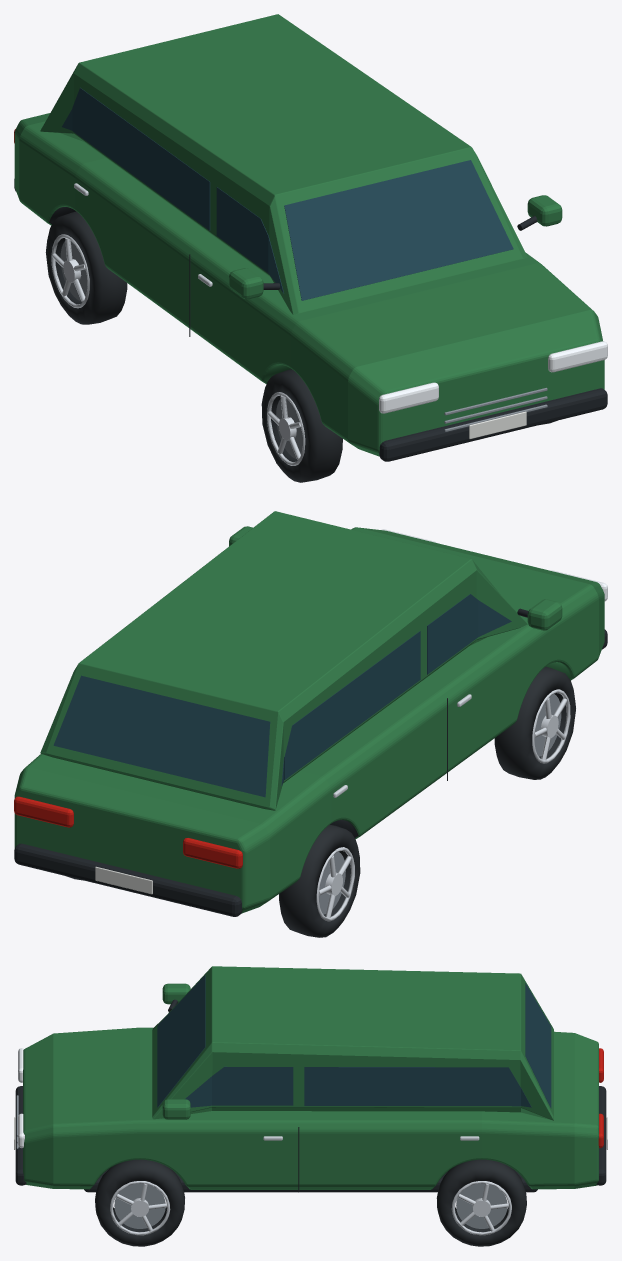
The model's file is Suv.fbx.
The picture shows the model from 3 angles, top to bottom: view 1: azimuth 30°, elevation 25°; view 2: azimuth 150°, elevation 25°; view 3: azimuth 270°, elevation 25°; orthographic projection. The views are drawn at different scales.
Visible parts, largest first — view 1: Suv, wheel1, wheel3; view 2: Suv, wheel3, wheel1; view 3: Suv, wheel4, wheel2.
Part boxes in pixels (x1=…): Suv: x1=14, y1=14, x2=607, y2=461; wheel1: x1=261, y1=369, x2=342, y2=482; wheel3: x1=45, y1=211, x2=127, y2=324; Suv: x1=14, y1=511, x2=607, y2=916; wheel3: x1=279, y1=824, x2=360, y2=937; wheel1: x1=494, y1=666, x2=575, y2=779; Suv: x1=14, y1=966, x2=607, y2=1228; wheel4: x1=436, y1=1159, x2=526, y2=1246; wheel2: x1=95, y1=1159, x2=184, y2=1246.
Size of the model in its own units: 240 by 175 by 487.
